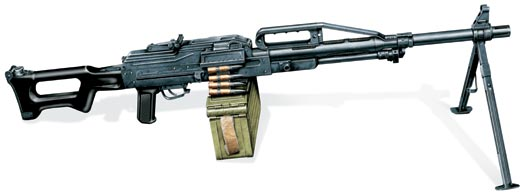rifle: (4, 9, 514, 182)
